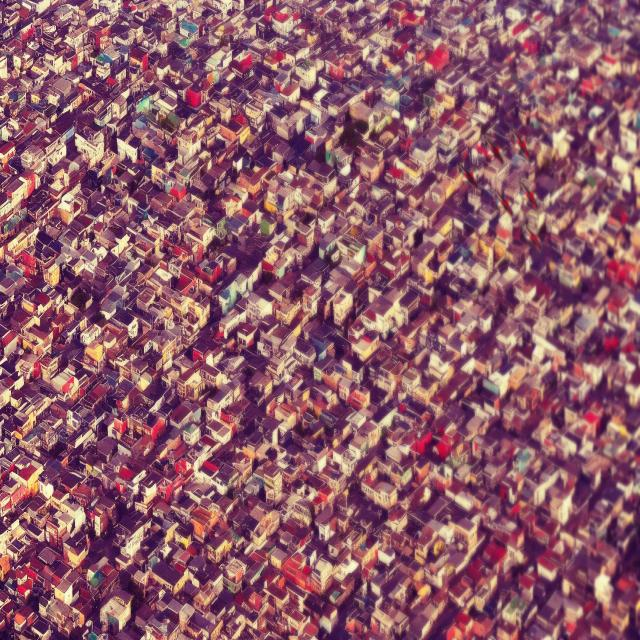airplane: (457, 156, 478, 188), (521, 179, 539, 213), (493, 187, 512, 216), (511, 129, 530, 157), (485, 134, 504, 162), (524, 224, 542, 250)
